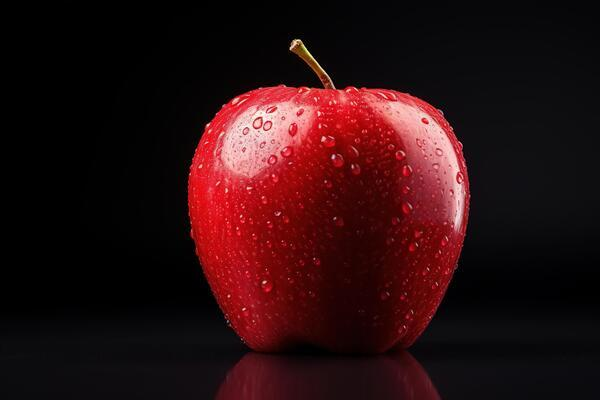non-mango: (186, 39, 471, 355)
